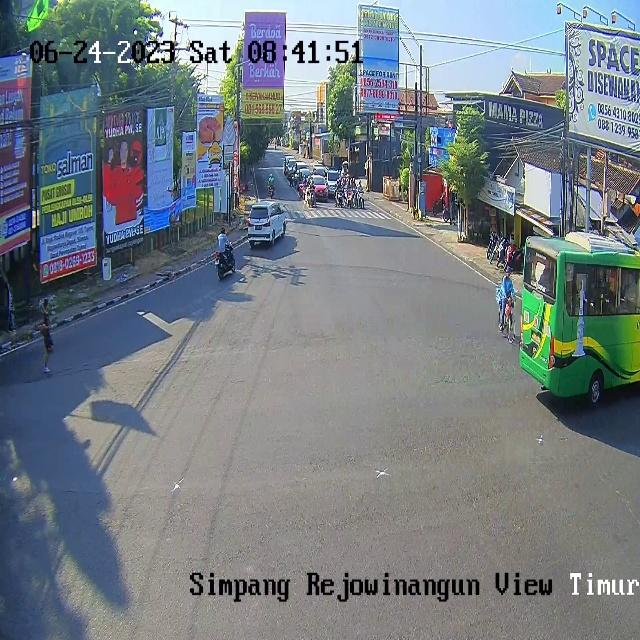bus: (214, 241, 236, 280), (308, 188, 316, 207), (337, 187, 343, 208), (346, 189, 352, 208), (268, 184, 275, 200), (358, 189, 364, 207)
car: (518, 232, 640, 408)
motorcycle: (248, 201, 286, 246), (310, 174, 329, 202), (326, 171, 341, 194)
